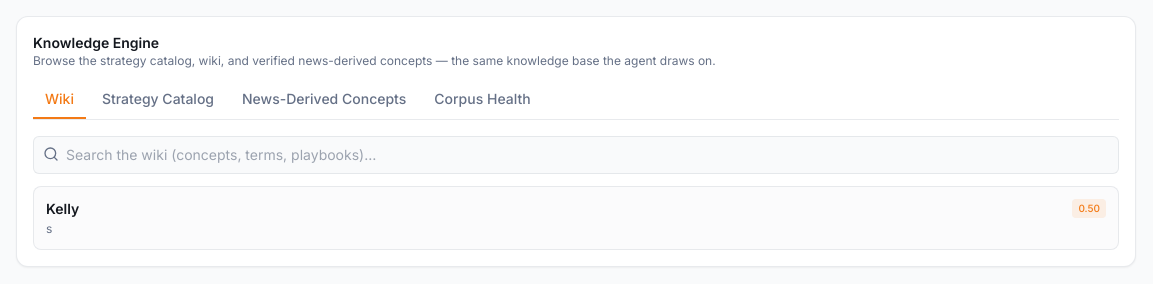
Test case: KnowledgeEngine wiki tab › a slow answer to an earlier query never overwrites the newer query's results
Expected: the text "Kelly" is shown, [46,199,79,219]
In the field with placeholder "Search the wiki (concepts, terms, playbooks)…": (576, 155) [33,136,1119,174], type "old"
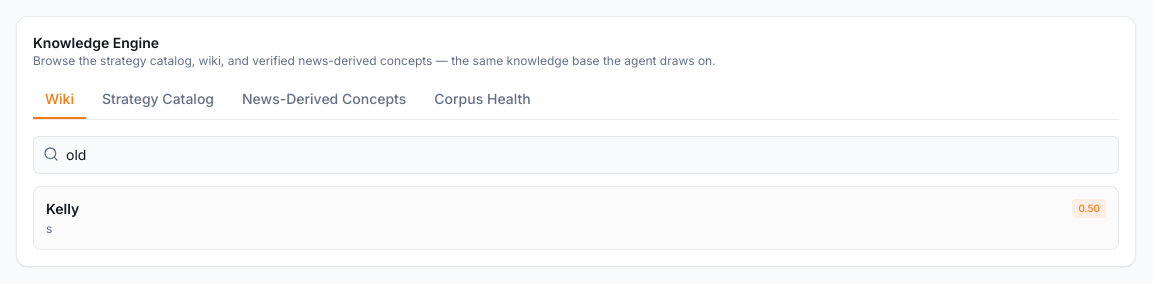
Replace the text in the field with placeholder "Search the wiki (concepts, terms, playbooks)…" with "new": (576, 155) [33,136,1119,174]
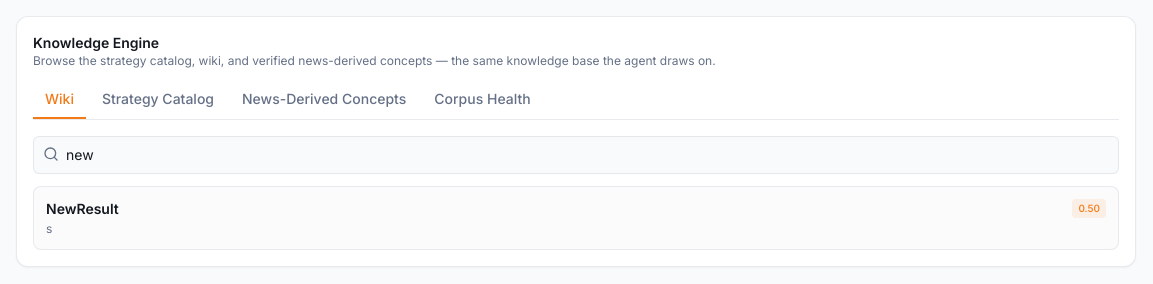
Expected: the text "NewResult" is shown, [46,199,119,219]
